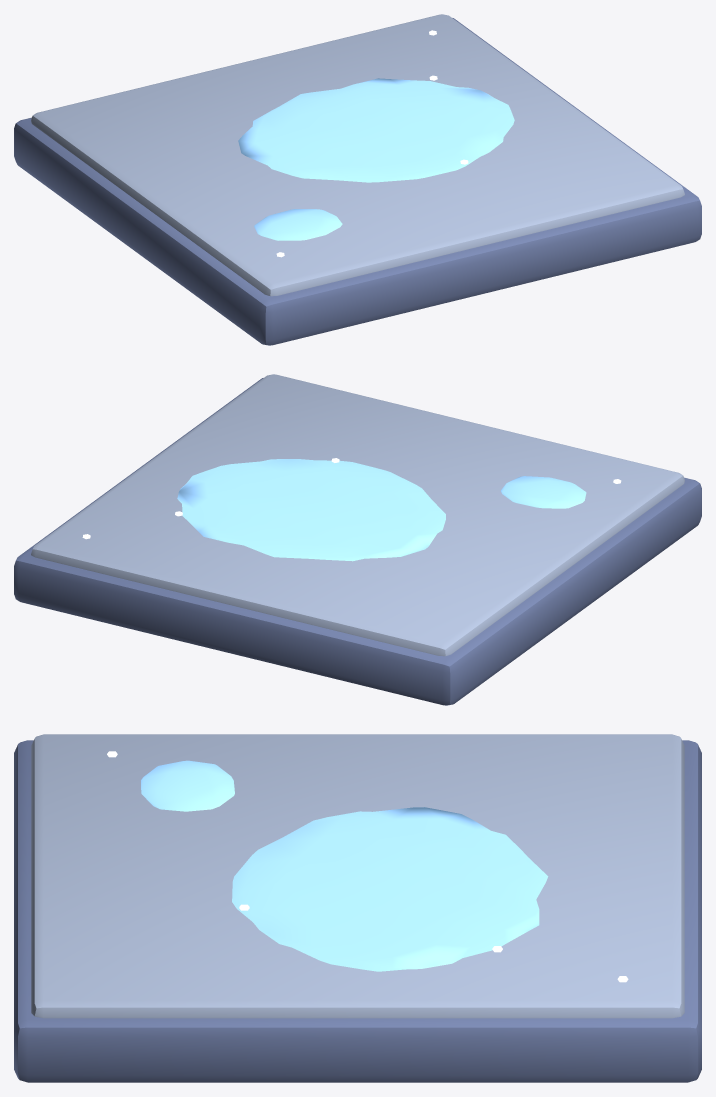
The model's file is floor_tile_b.glb.
The picture shows the model from 3 angles, top to bottom: view 1: azimuth 30°, elevation 25°; view 2: azimuth 150°, elevation 25°; view 3: azimuth 270°, elevation 25°; orthographic projection. The views are drawn at different scales.
Parts seen in each view (by area): view 1: floor_tile_b; view 2: floor_tile_b; view 3: floor_tile_b.
Boxes of the visible parts, x1,y1,x2,y2 form: floor_tile_b: [14, 14, 701, 345]; floor_tile_b: [14, 374, 701, 705]; floor_tile_b: [14, 734, 701, 1082].
Bounding box in the file's own units: 1 × 0.1285 × 1.
